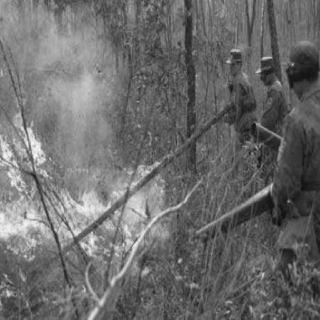Fire: (1, 86, 169, 310)
